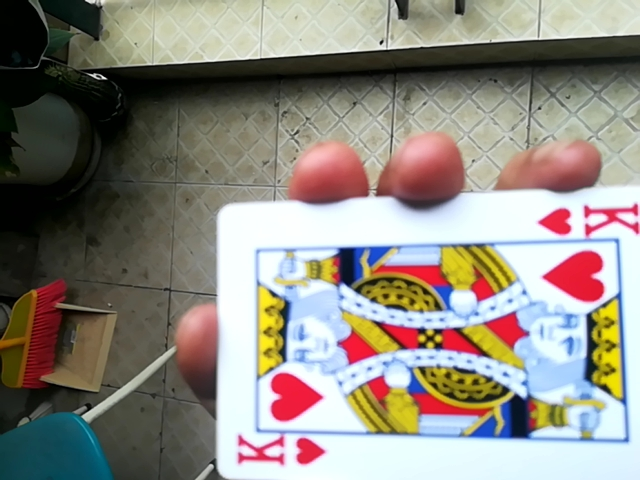hx k: (217, 193, 638, 478)
